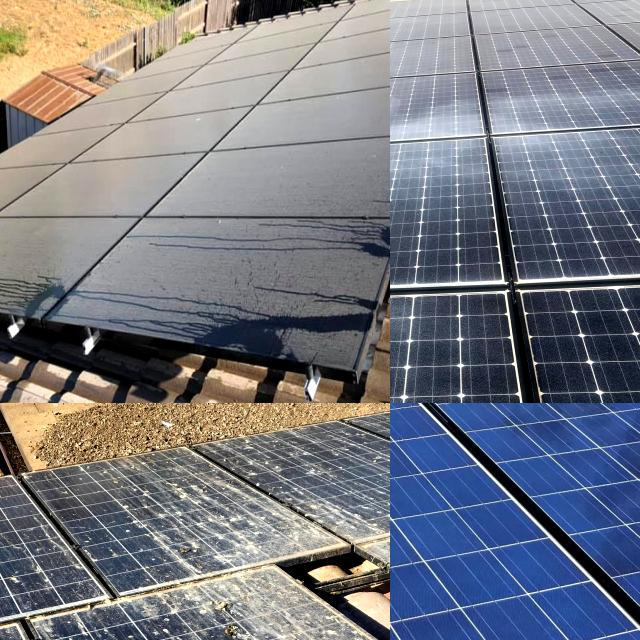bird: (223, 498, 294, 550), (118, 484, 173, 536), (198, 594, 246, 625), (0, 532, 17, 581), (208, 626, 266, 640), (365, 485, 390, 514), (0, 513, 19, 547)
crack: (392, 506, 500, 580), (390, 480, 454, 596), (390, 540, 463, 640), (390, 482, 464, 568), (390, 601, 523, 640), (390, 403, 461, 475), (390, 538, 454, 617), (390, 535, 449, 614), (390, 442, 447, 523), (390, 436, 434, 494), (390, 406, 439, 456), (390, 403, 437, 429), (390, 403, 431, 430), (390, 403, 416, 425)
dust: (182, 155, 386, 281), (188, 36, 390, 134), (187, 274, 365, 346), (0, 217, 130, 298), (22, 145, 168, 216), (115, 82, 170, 138), (355, 0, 390, 46)
